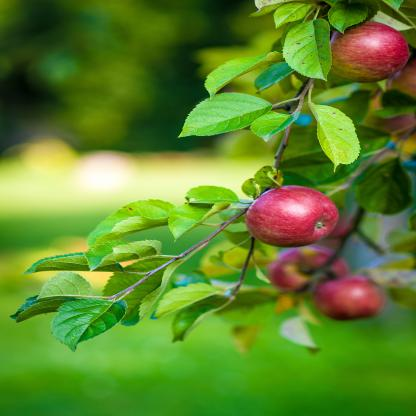apple leaf: (173, 91, 277, 140), (52, 291, 125, 352), (306, 100, 366, 174), (278, 21, 339, 84), (166, 190, 230, 245)
